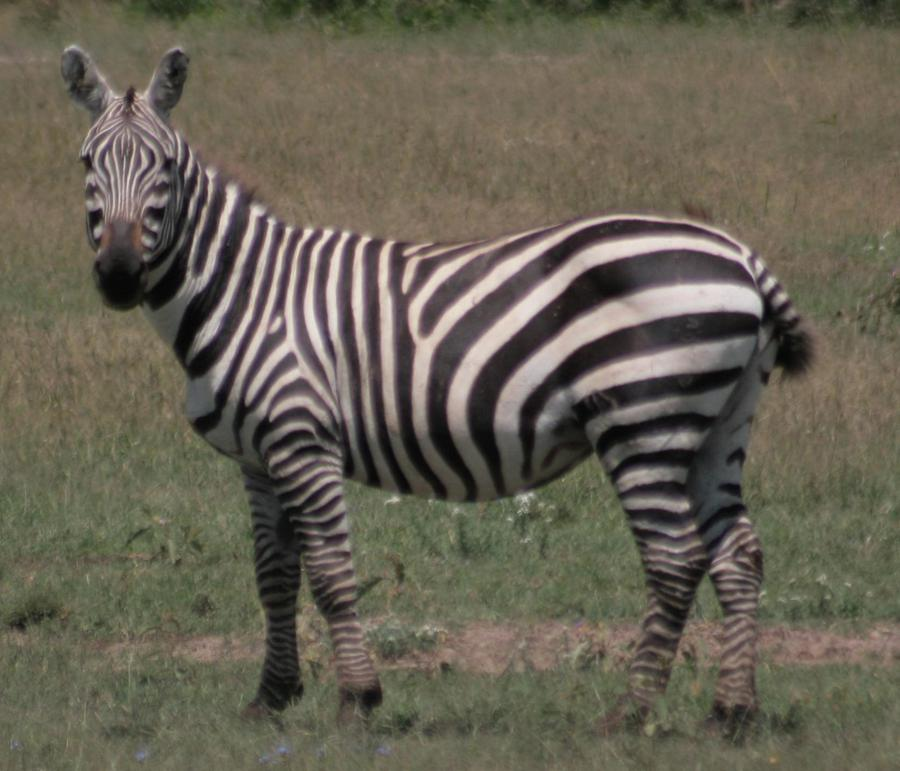zebra_plains: (203, 181, 730, 516)
